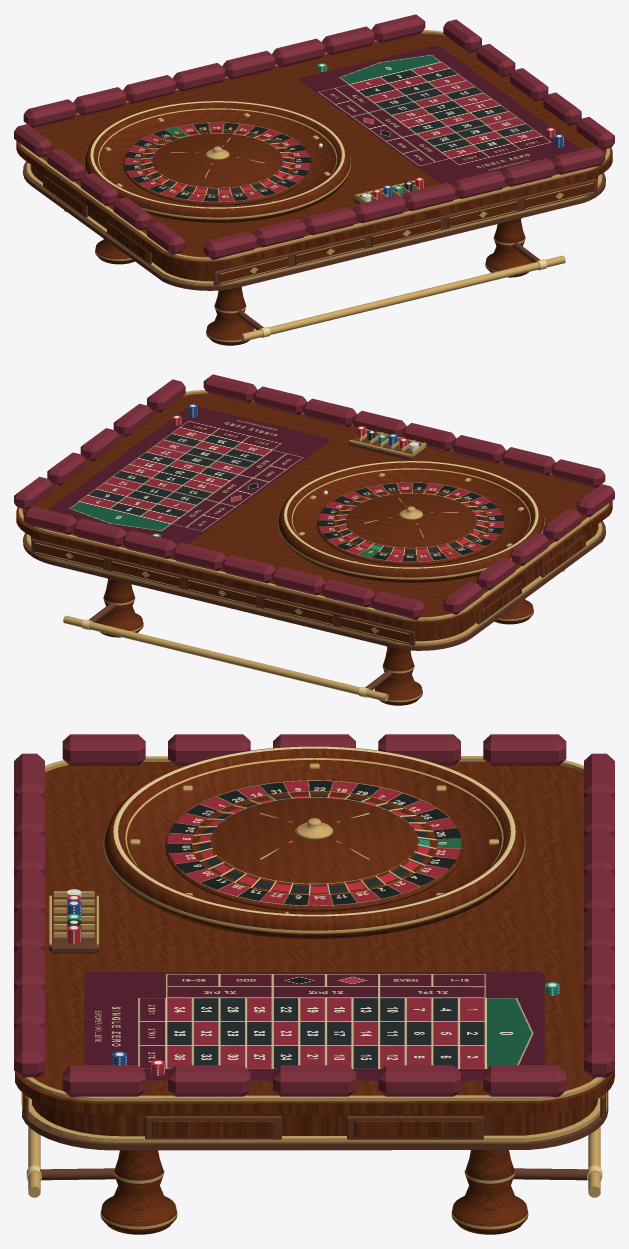
Rendered from roulette-table.glb.
3 views of the same model, one above another, from view 1: azimuth 30°, elevation 25°; view 2: azimuth 150°, elevation 25°; view 3: azimuth 270°, elevation 25° (orthographic). The views are drawn at different scales.
Parts seen in each view (by area): view 1: Roulette polished walnut top, Roulette segmented oxblood rail, Roulette printed betting felt, Sculpted walnut roulette bowl, Rotor carved walnut cone, Wheel numbered annulus, Turned walnut legs, Carved lower molding, Apron panel veneer, Brass foot rail, Roulette top brass perimeter, Inset apron panels (+11 smaller); view 2: Roulette polished walnut top, Roulette segmented oxblood rail, Roulette printed betting felt, Sculpted walnut roulette bowl, Rotor carved walnut cone, Wheel numbered annulus, Turned walnut legs, Carved lower molding, Apron panel veneer, Brass foot rail, Roulette top brass perimeter, Inset apron panels (+12 smaller); view 3: Roulette polished walnut top, Roulette printed betting felt, Roulette segmented oxblood rail, Sculpted walnut roulette bowl, Rotor carved walnut cone, Wheel numbered annulus, Turned walnut legs, Walnut structural body, Carved lower molding, End apron veneer, Roulette top brass perimeter, Lower brass bead (+12 smaller).
Boxes of the visible parts, box(x1,y1,x2,y2) form: Roulette polished walnut top: box(16, 33, 612, 268); Roulette segmented oxblood rail: box(14, 14, 614, 259); Roulette printed betting felt: box(299, 45, 580, 183); Sculpted walnut roulette bowl: box(84, 101, 350, 222); Rotor carved walnut cone: box(123, 129, 311, 205); Wheel numbered annulus: box(124, 123, 311, 201); Turned walnut legs: box(95, 218, 532, 345); Carved lower molding: box(23, 161, 605, 290); Apron panel veneer: box(218, 182, 594, 283); Brass foot rail: box(64, 210, 565, 341); Roulette top brass perimeter: box(19, 30, 610, 260); Inset apron panels: box(213, 178, 597, 285); Roulette polished walnut top: box(16, 393, 612, 628); Roulette segmented oxblood rail: box(14, 374, 614, 619); Roulette printed betting felt: box(48, 406, 329, 543); Sculpted walnut roulette bowl: box(278, 461, 544, 582); Rotor carved walnut cone: box(317, 489, 505, 565); Wheel numbered annulus: box(317, 483, 504, 561); Turned walnut legs: box(96, 578, 533, 705); Carved lower molding: box(23, 521, 605, 650); Apron panel veneer: box(34, 542, 410, 643); Brass foot rail: box(63, 570, 564, 701); Roulette top brass perimeter: box(18, 390, 609, 620); Inset apron panels: box(31, 538, 415, 645); Roulette polished walnut top: box(15, 761, 614, 1114); Roulette printed betting felt: box(84, 972, 544, 1080); Roulette segmented oxblood rail: box(14, 734, 614, 1097); Sculpted walnut roulette bowl: box(104, 746, 524, 938); Rotor carved walnut cone: box(165, 791, 463, 912); Wheel numbered annulus: box(166, 781, 462, 905); Turned walnut legs: box(100, 1150, 528, 1234); Walnut structural body: box(32, 1099, 597, 1136); Carved lower molding: box(21, 1091, 608, 1150); End apron veneer: box(152, 1120, 476, 1137); Roulette top brass perimeter: box(24, 756, 604, 1101); Lower brass bead: box(28, 1097, 600, 1142).
Size of the model in its own units: 3.4 by 1 by 2.5.
Materials: 13 (3 with a texture image).
